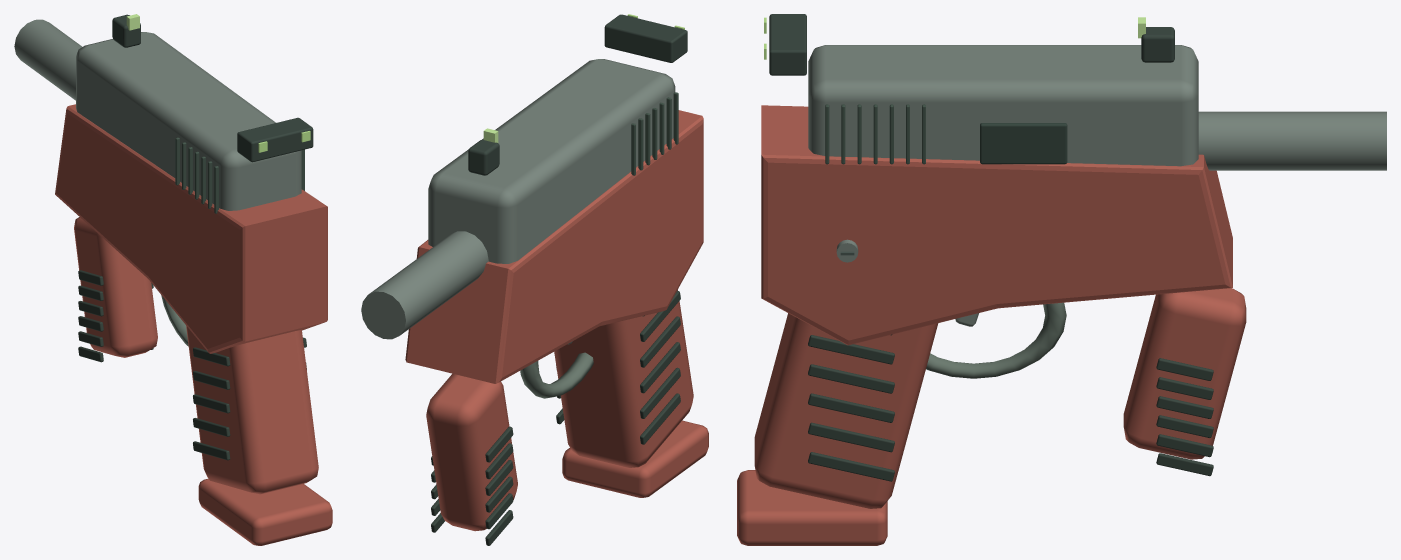
The picture shows the model from 3 angles, left to right: view 1: azimuth 30°, elevation 25°; view 2: azimuth 150°, elevation 25°; view 3: azimuth 270°, elevation 25°; orthographic projection. The views are drawn at different scales.
Parts seen in each view (by area): view 1: cz75, bolt, magazine; view 2: cz75, bolt, magazine; view 3: cz75, bolt, magazine.
Boxes of the visible parts, x1,y1,x2,y2 form: cz75: [14, 14, 327, 494]; bolt: [76, 32, 304, 213]; magazine: [198, 478, 332, 545]; cz75: [361, 14, 703, 545]; bolt: [428, 59, 678, 263]; magazine: [562, 420, 708, 497]; cz75: [754, 14, 1386, 508]; bolt: [808, 45, 1198, 166]; magazine: [737, 470, 887, 545].
Bounding box in the file's own units: 0.1055 × 0.4145 × 0.483.
